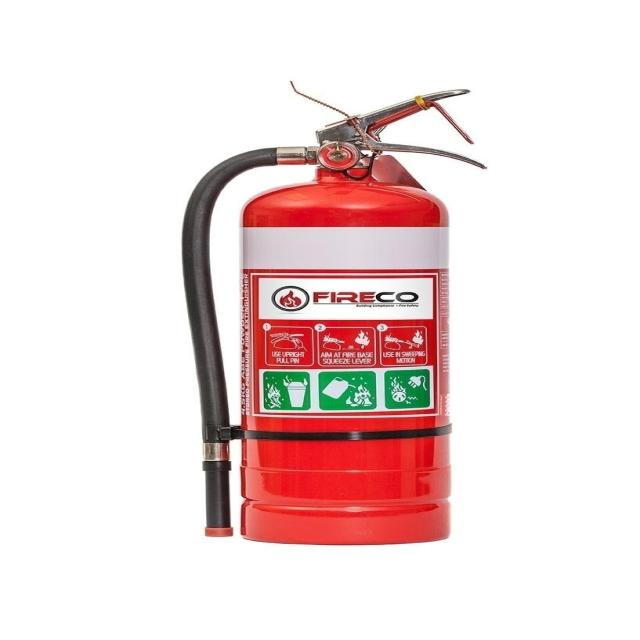fire_extinguisher: (175, 85, 493, 552)
